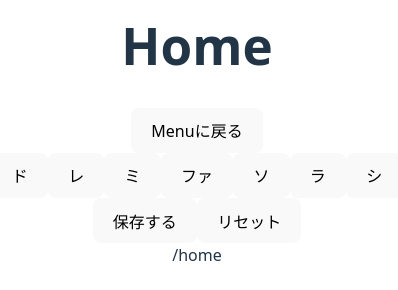
Test: レのボタンを押すと、楽譜にレが表示される
What coordinates should you click on to do the following:
click the button "レ"
I would click on:
 (76, 176)
Its box is [48,153,104,198].
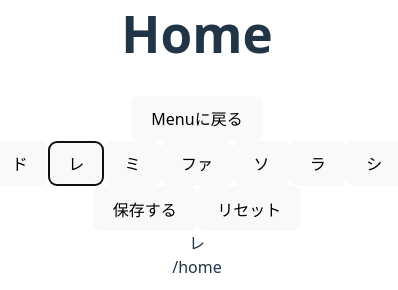
Now the element named "gakufu-board" reads "レ", box [189,232,205,254]
